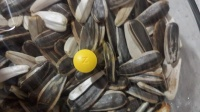Nurofen: (72, 48, 98, 74)
